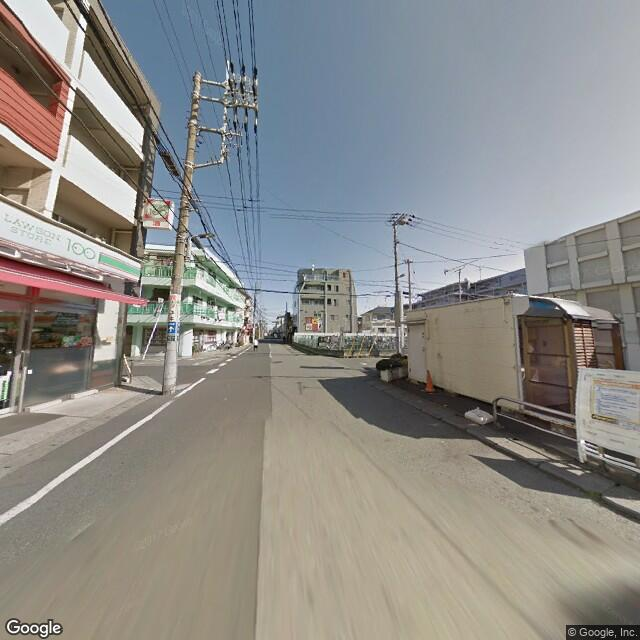lawson: (1, 200, 144, 284), (142, 197, 172, 226)
